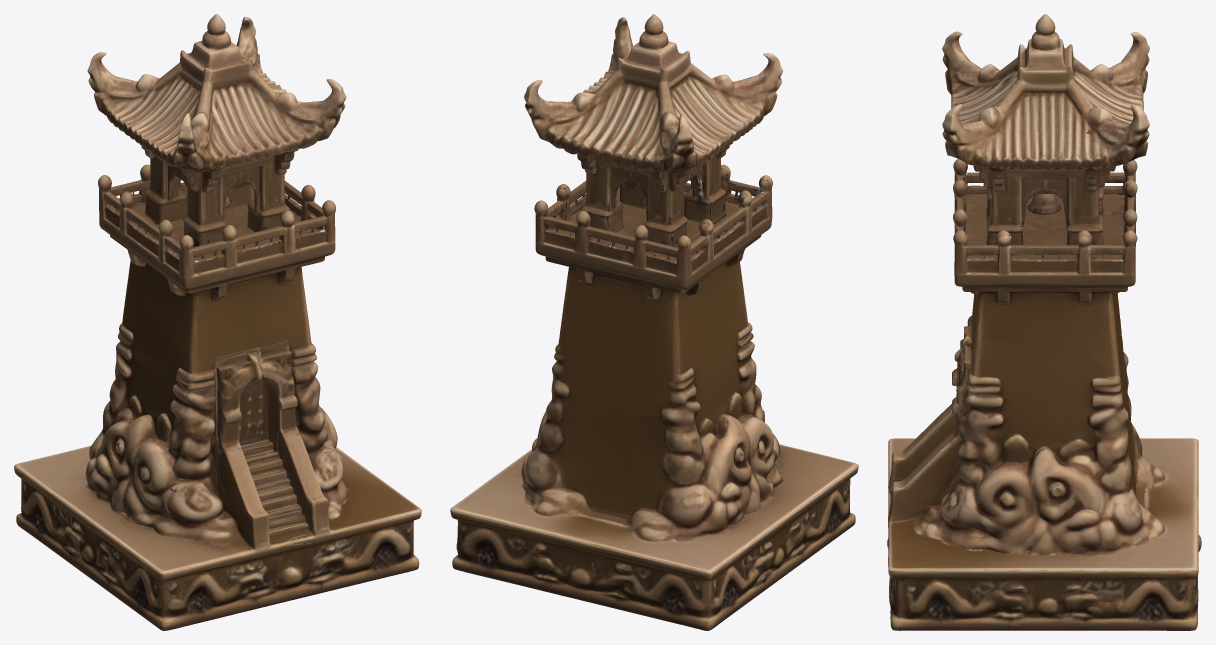
The model's file is rook.glb.
The picture shows the model from 3 angles, left to right: view 1: azimuth 30°, elevation 25°; view 2: azimuth 150°, elevation 25°; view 3: azimuth 270°, elevation 25°; orthographic projection. The views are drawn at different scales.
Parts seen in each view (by area): view 1: model; view 2: model; view 3: model.
Boxes of the visible parts, left/top/right/bottom form: model: left=14, top=14, right=421, bottom=630; model: left=450, top=14, right=858, bottom=630; model: left=887, top=14, right=1201, bottom=630.
Size of the model in its own units: 0.9777 by 1.9 by 0.9793.
1 material, 1 textured.
